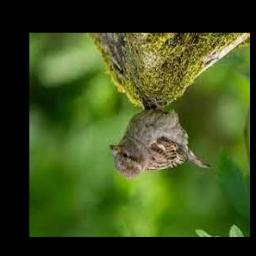Sparrow: (109, 98, 210, 180)
